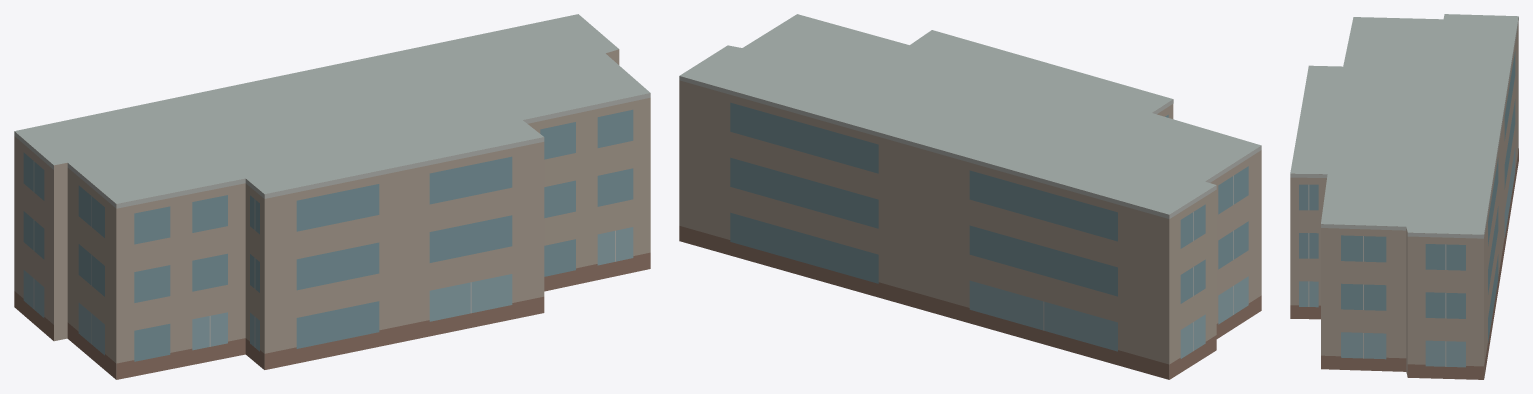
The model's file is survey-upis-32514989.glb.
3 renders of one model, left to right at view 1: azimuth 30°, elevation 25°; view 2: azimuth 150°, elevation 25°; view 3: azimuth 270°, elevation 25°, orthographic. The views are drawn at different scales.
Parts seen in each view (by area): view 1: survey-upis-32514989.tmp; view 2: survey-upis-32514989.tmp; view 3: survey-upis-32514989.tmp.
Part boxes in pixels (x1=…): survey-upis-32514989.tmp: x1=14, y1=14, x2=650, y2=379; survey-upis-32514989.tmp: x1=679, y1=14, x2=1261, y2=379; survey-upis-32514989.tmp: x1=1290, y1=14, x2=1518, y2=379.
Size of the model in its own units: 29.87 by 9.15 by 13.07.
